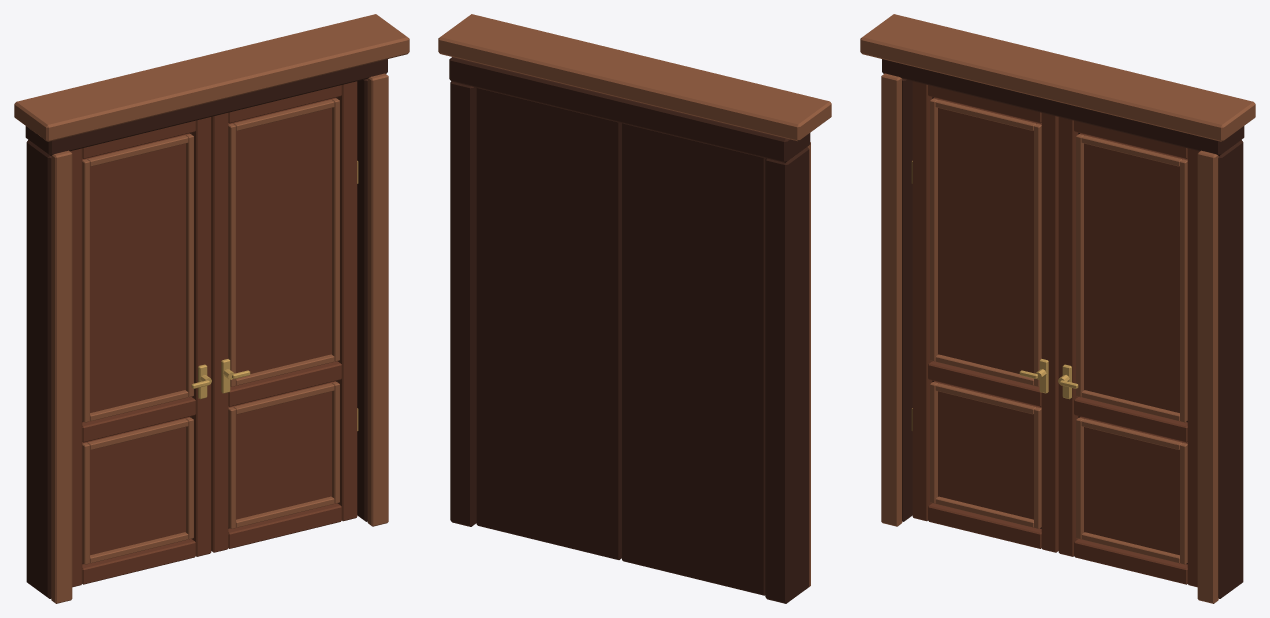
File: door_01.glb
3 views of the same model, side by side, from view 1: azimuth 30°, elevation 25°; view 2: azimuth 150°, elevation 25°; view 3: azimuth 330°, elevation 25° (orthographic).
Parts seen in each view (by area): view 1: Panel_0_1_Field, Panel_1_1_Field, Cornice, Jamb__1, Panel_1_0_Field, Panel_0_0_Field, Jamb_moulding__1, Jamb_moulding_1, Leaf_stile_1_1, Leaf_stile_1__1, Leaf_stile_0_1, Lintel (+24 smaller); view 2: Leaf_1, Leaf_0, Jamb__1, Cornice, Jamb_1, Lintel, Jamb_moulding__1; view 3: Panel_1_1_Field, Panel_0_1_Field, Cornice, Jamb_1, Panel_0_0_Field, Panel_1_0_Field, Jamb_moulding_1, Jamb_moulding__1, Leaf_stile_0__1, Leaf_stile_0_1, Leaf_stile_1__1, Lintel (+24 smaller).
Part boxes in pixels (<box>): Panel_0_1_Field: <box>82,133,189,412</box>; Panel_1_1_Field: <box>228,97,335,373</box>; Cornice: <box>14,14,409,141</box>; Jamb__1: <box>26,140,51,598</box>; Panel_1_0_Field: <box>228,381,335,519</box>; Panel_0_0_Field: <box>82,417,189,555</box>; Jamb_moulding__1: <box>51,150,72,603</box>; Jamb_moulding_1: <box>367,73,388,526</box>; Leaf_stile_1_1: <box>337,81,357,521</box>; Leaf_stile_1__1: <box>211,113,228,552</box>; Leaf_stile_0_1: <box>191,117,211,556</box>; Lintel: <box>25,59,387,155</box>; Leaf_1: <box>476,88,621,559</box>; Leaf_0: <box>622,123,765,595</box>; Jamb__1: <box>765,147,809,603</box>; Cornice: <box>438,14,831,141</box>; Jamb_1: <box>450,81,476,526</box>; Lintel: <box>449,57,810,162</box>; Jamb_moulding__1: <box>807,142,810,586</box>; Panel_1_1_Field: <box>1080,133,1187,412</box>; Panel_0_1_Field: <box>934,97,1041,373</box>; Cornice: <box>860,14,1255,141</box>; Jamb_1: <box>1218,140,1243,598</box>; Panel_0_0_Field: <box>934,381,1041,519</box>; Panel_1_0_Field: <box>1080,417,1187,555</box>; Jamb_moulding_1: <box>1197,150,1218,603</box>; Jamb_moulding__1: <box>881,73,902,526</box>; Leaf_stile_0__1: <box>912,81,932,521</box>; Leaf_stile_0_1: <box>1041,113,1058,552</box>; Leaf_stile_1__1: <box>1058,117,1078,556</box>; Lintel: <box>882,59,1244,155</box>.
Size of the model in its own units: 2.23 by 2.85 by 0.37.
